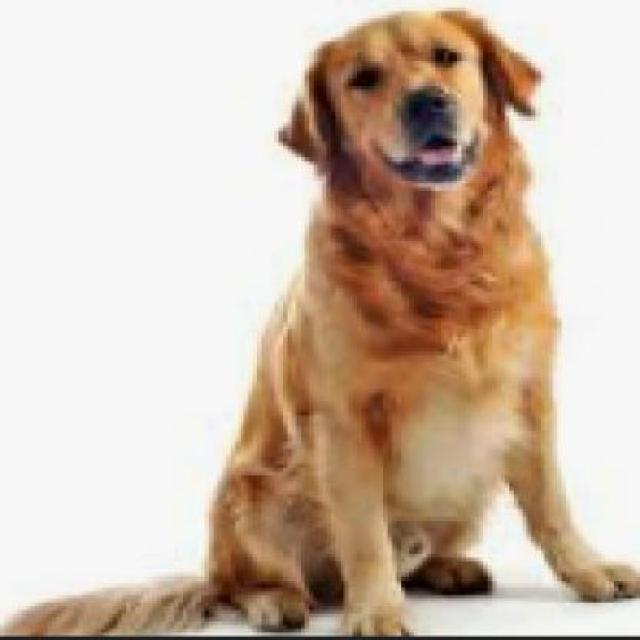Dog: (3, 6, 634, 634)
